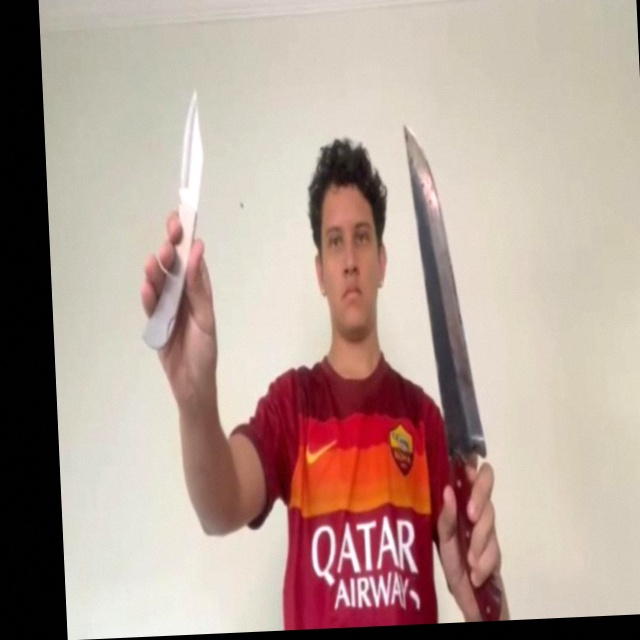Sharp-Object: (404, 120, 487, 456), (174, 87, 206, 205)
